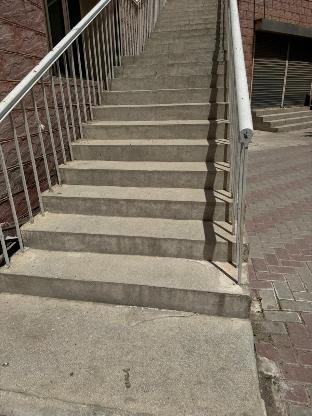stair: (73, 0, 231, 327)
